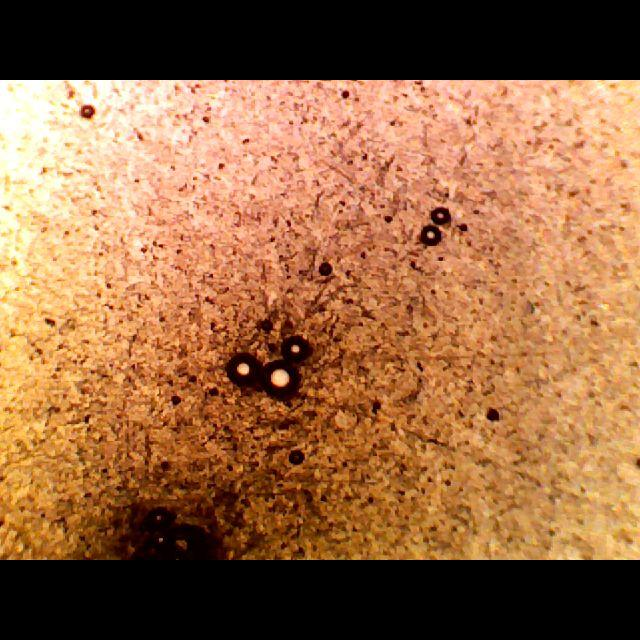microbeads: (256, 355, 300, 403), (224, 349, 262, 391), (279, 333, 313, 365)
